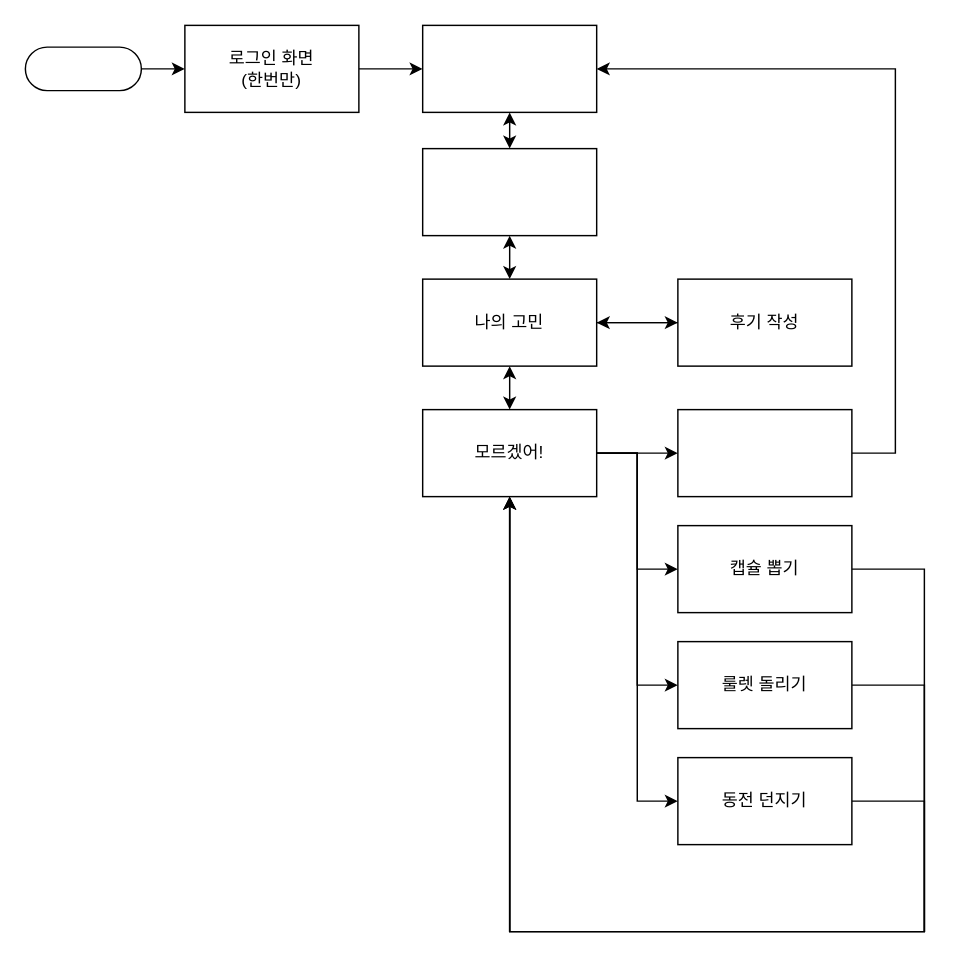
Some shapes in this 961 by 969 pixel diagram are drawn without their labels. The box of each missing label's shape, as (x1, y1, x2, y2) in pixels:
골라줘!: (421, 24, 597, 112)
글 올리기: (676, 408, 852, 497)
다 골랐어!: (421, 147, 597, 236)
시작: (24, 46, 141, 91)
